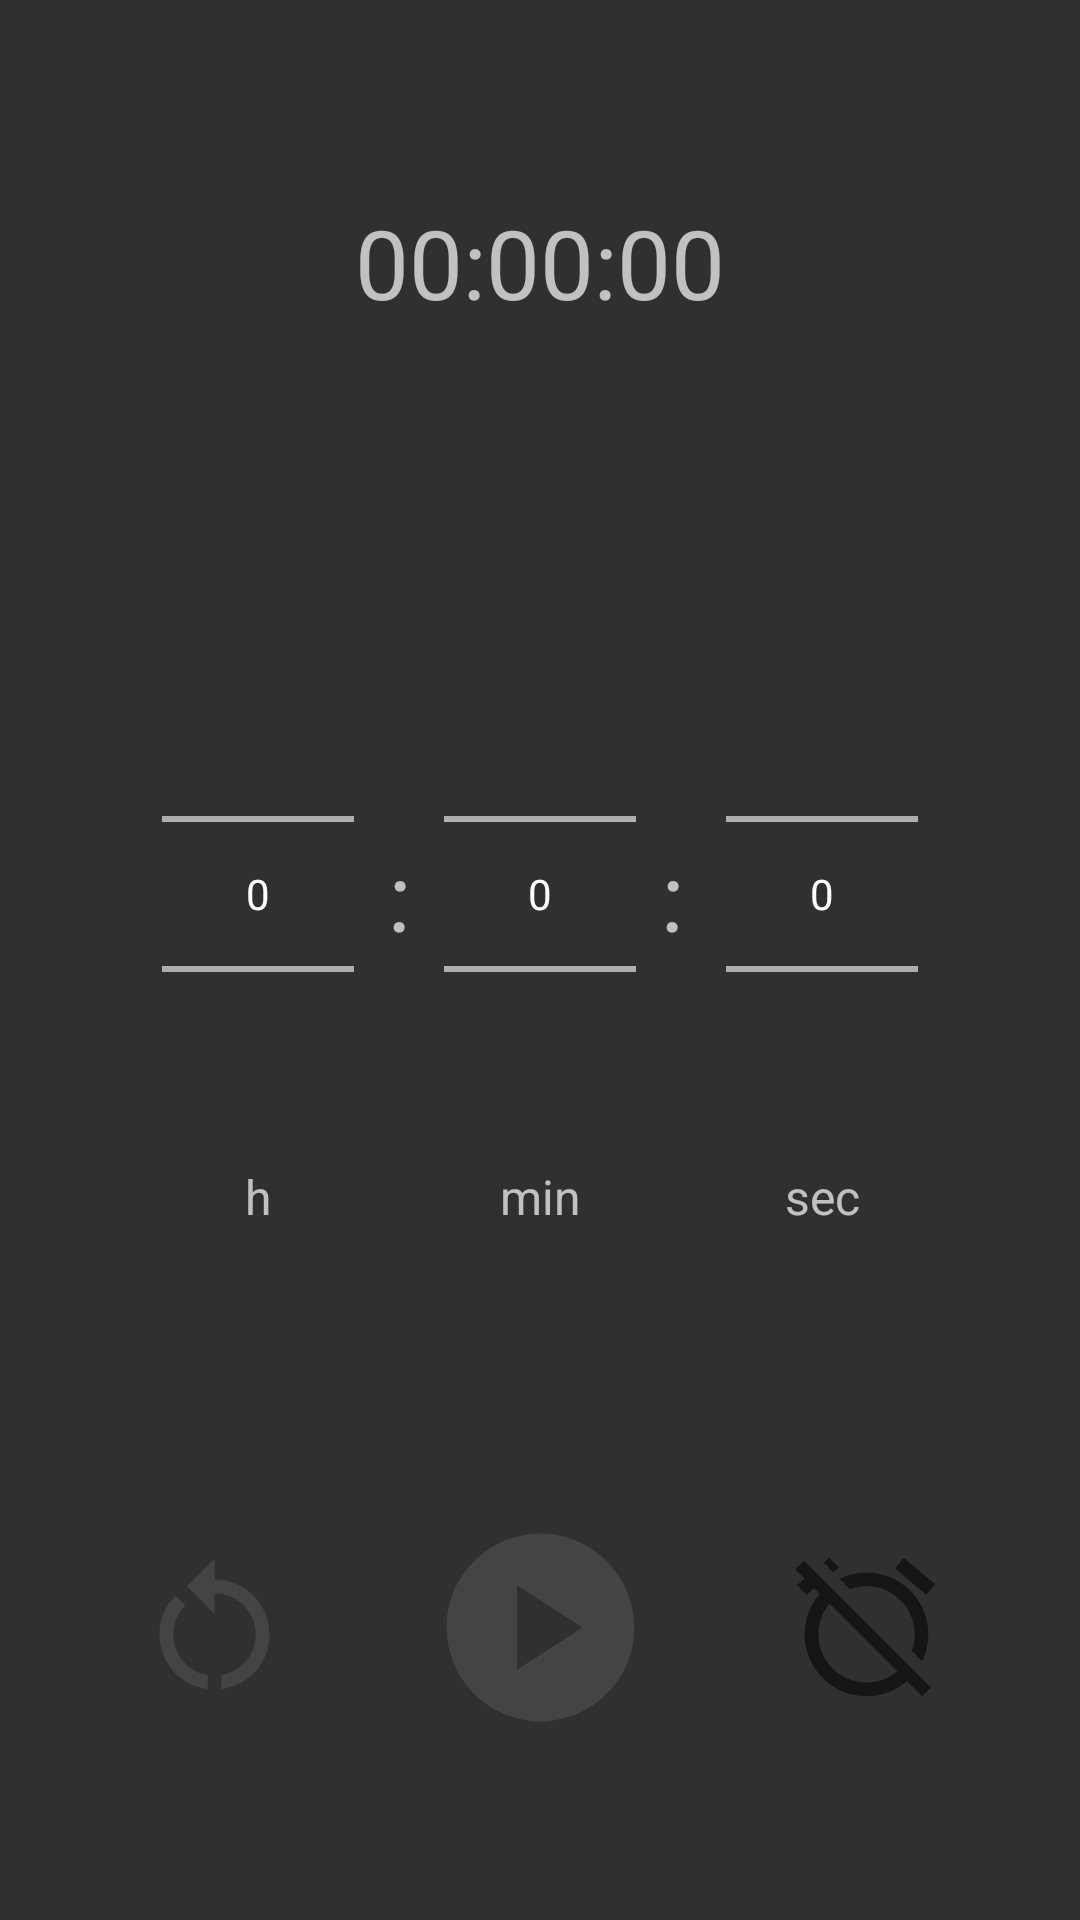

Screen size 1080 x 1920. Icon name, then its center in pixels as (x,y):
Toggle alarm button: (865,1627)
